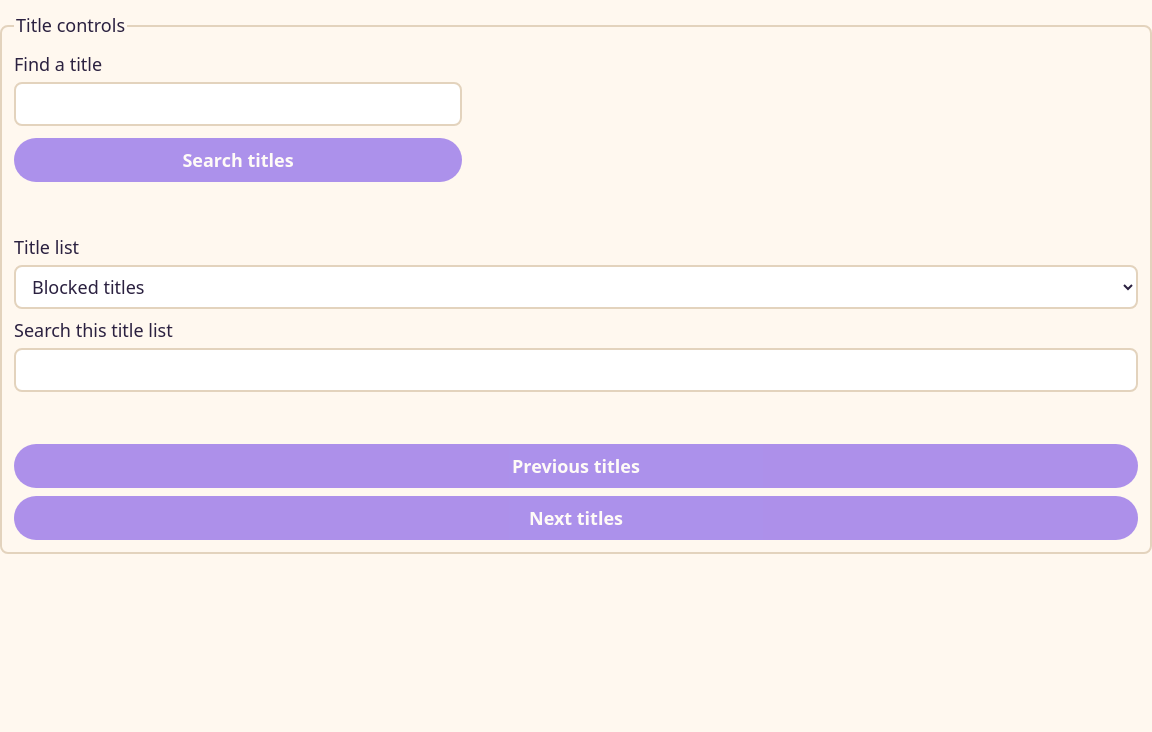
Test case: shows the specific title error for 409
Step 1. Type "matrix" into the search field labelled "Find a title" → (238, 104), box [14, 82, 462, 126]
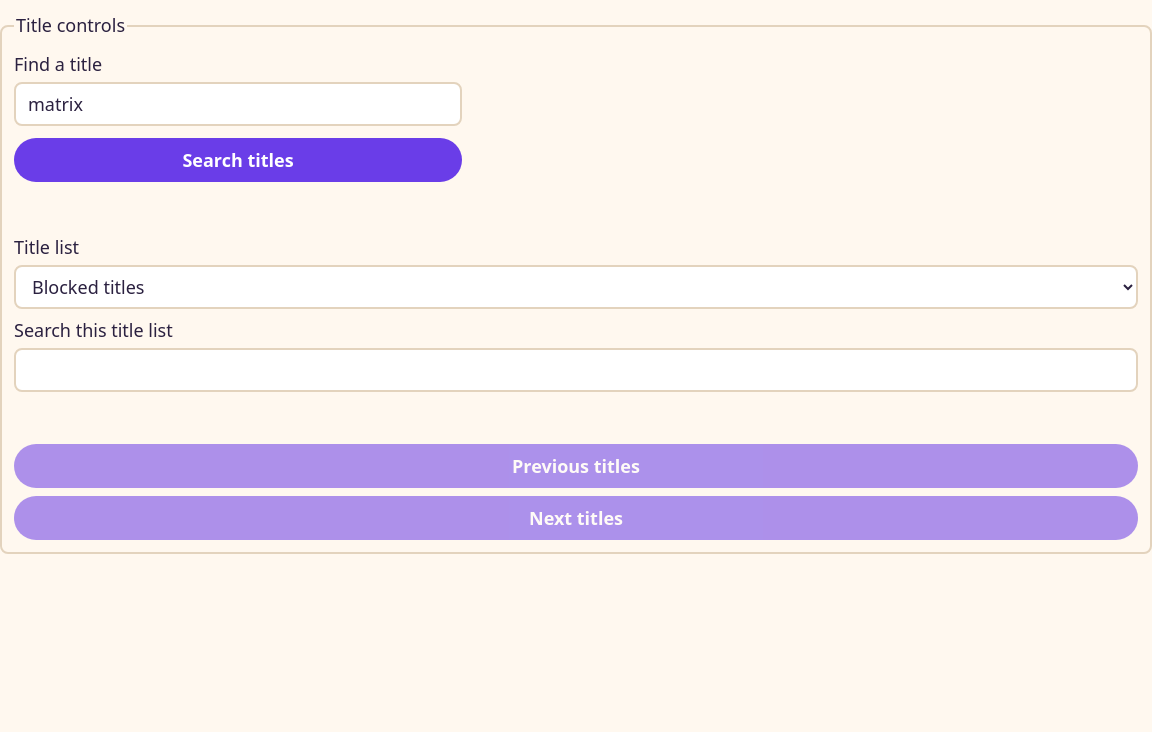
Step 2. Click the button "Search titles" → (238, 160), box [14, 138, 462, 182]
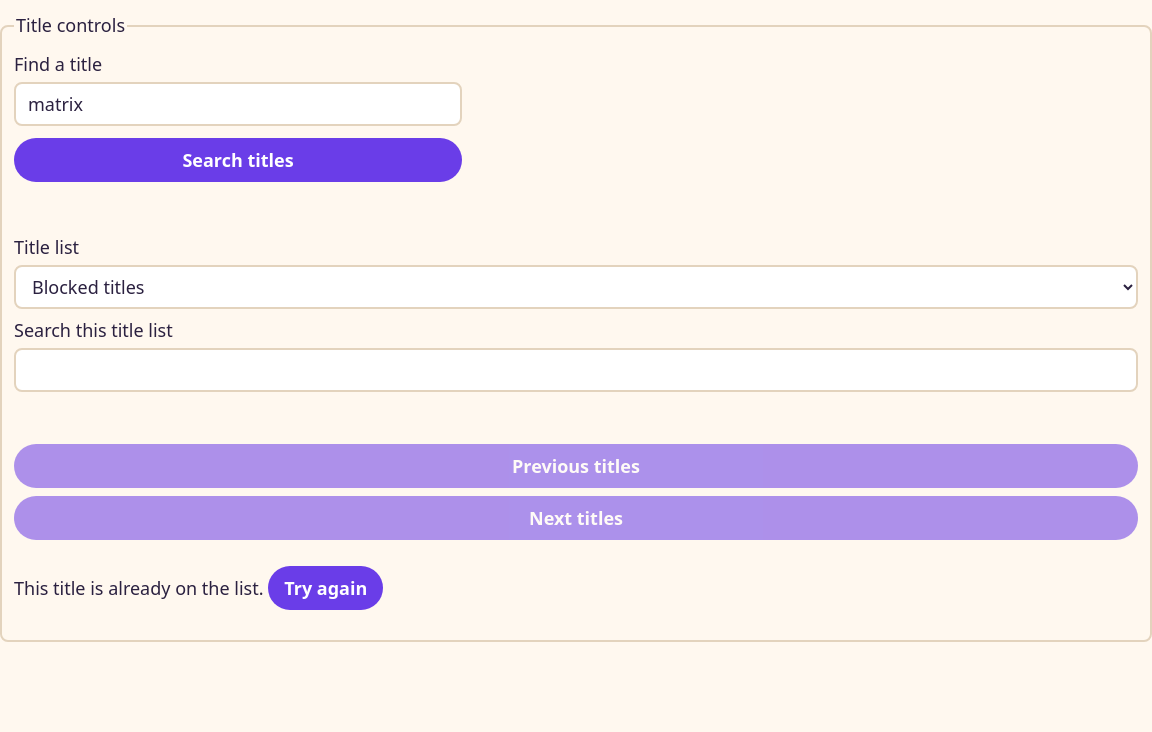
Now the message shows "This title is already on the list.", box [14, 576, 264, 600]
